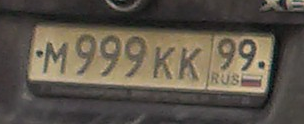character: (97, 31, 123, 79), (41, 40, 72, 77), (124, 31, 148, 78), (75, 32, 98, 78), (178, 46, 204, 83), (153, 45, 177, 82), (216, 36, 237, 72), (238, 38, 259, 73)
